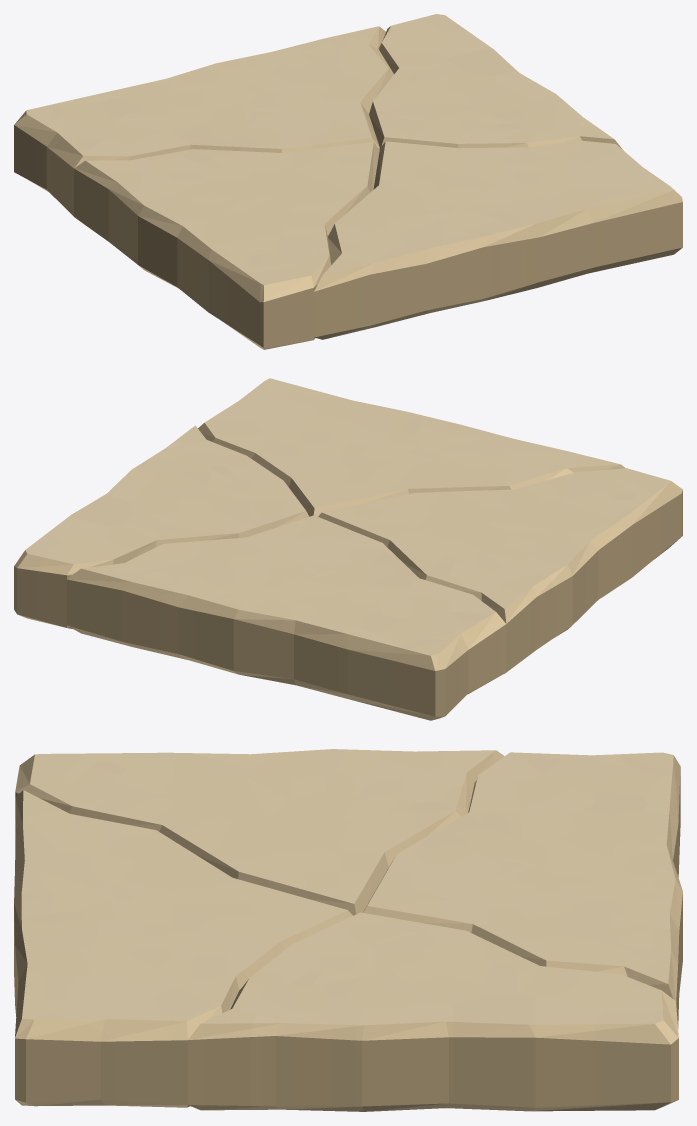
Rendered from tile_b_fragments.glb.
3 views of the same model, one above another, from view 1: azimuth 30°, elevation 25°; view 2: azimuth 150°, elevation 25°; view 3: azimuth 270°, elevation 25° (orthographic). The views are drawn at different scales.
Parts seen in each view (by area): view 1: fragment_b_01, fragment_b_04, fragment_b_03, fragment_b_02; view 2: fragment_b_03, fragment_b_04, fragment_b_01, fragment_b_02; view 3: fragment_b_02, fragment_b_01, fragment_b_03, fragment_b_04.
Boxes of the visible parts, x1,y1,x2,y2 form: fragment_b_01: [314, 140, 682, 339]; fragment_b_04: [74, 142, 379, 349]; fragment_b_03: [14, 26, 393, 216]; fragment_b_02: [369, 14, 623, 150]; fragment_b_03: [67, 515, 506, 720]; fragment_b_04: [318, 468, 682, 673]; fragment_b_01: [198, 378, 625, 516]; fragment_b_02: [14, 425, 309, 629]; fragment_b_02: [188, 912, 678, 1111]; fragment_b_01: [14, 790, 352, 1107]; fragment_b_03: [363, 752, 682, 1028]; fragment_b_04: [15, 749, 504, 915].
Bounding box in the file's own units: 2.8 × 0.4 × 2.8.
Materials: 3 (3 with a texture image).
